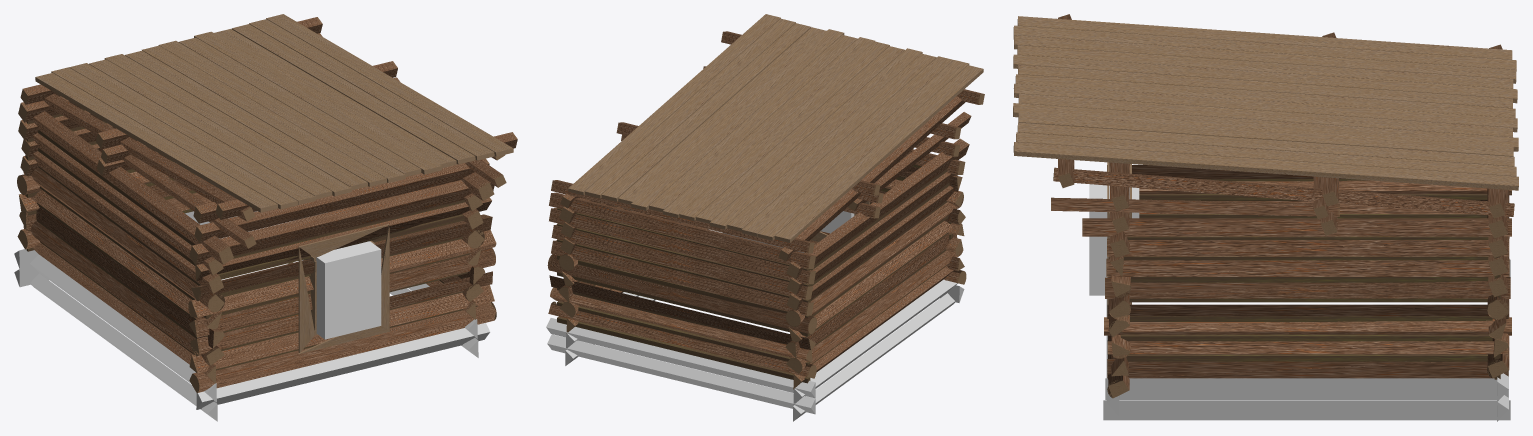
Rendered from kuznya_LOD3.fbx.
3 renders of one model, left to right at view 1: azimuth 30°, elevation 25°; view 2: azimuth 150°, elevation 25°; view 3: azimuth 270°, elevation 25°, orthographic. The views are drawn at different scales.
Visible parts, largest first — view 1: Куб, Цилиндр.012, Цилиндр.033, Цилиндр.017, Куб.032, Цилиндр.013, Цилиндр.075, Куб.043, Куб.045, Куб.044, Куб.041, Куб.033 (+44 smaller); view 2: Куб.032, Цилиндр.001, Цилиндр.027, Куб.043, Куб.045, Куб.044, Куб.041, Куб.033, Куб.038, Куб.036, Куб.034, Куб.035 (+37 smaller); view 3: Цилиндр.002, Цилиндр.005, Куб.045, Цилиндр.068, Цилиндр.020, Цилиндр.054, Цилиндр.053, Цилиндр.067, Цилиндр.019, Куб.036, Куб.039, Куб.034 (+35 smaller).
Part boxes in pixels (x1=…): Куб: x1=302, y1=241, x2=381, y2=339; Цилиндр.012: x1=189, y1=177, x2=494, y2=265; Цилиндр.033: x1=189, y1=302, x2=496, y2=392; Цилиндр.017: x1=196, y1=323, x2=489, y2=409; Куб.032: x1=35, y1=73, x2=278, y2=212; Цилиндр.013: x1=194, y1=158, x2=489, y2=243; Цилиндр.075: x1=33, y1=111, x2=233, y2=264; Куб.043: x1=231, y1=24, x2=475, y2=164; Куб.045: x1=266, y1=14, x2=513, y2=156; Куб.044: x1=249, y1=19, x2=494, y2=160; Куб.041: x1=194, y1=31, x2=441, y2=174; Куб.033: x1=51, y1=67, x2=297, y2=209; Куб.032: x1=774, y1=65, x2=983, y2=242; Цилиндр.001: x1=547, y1=334, x2=815, y2=414; Цилиндр.027: x1=549, y1=192, x2=815, y2=269; Куб.043: x1=601, y1=23, x2=811, y2=201; Куб.045: x1=568, y1=14, x2=780, y2=195; Куб.044: x1=585, y1=18, x2=795, y2=198; Куб.041: x1=631, y1=29, x2=844, y2=210; Куб.033: x1=757, y1=60, x2=969, y2=240; Куб.038: x1=679, y1=41, x2=889, y2=221; Куб.036: x1=710, y1=48, x2=922, y2=229; Куб.034: x1=741, y1=56, x2=953, y2=236; Куб.035: x1=727, y1=53, x2=936, y2=231; Цилиндр.002: x1=1103, y1=400, x2=1510, y2=420; Цилиндр.005: x1=1105, y1=378, x2=1508, y2=399; Куб.045: x1=1013, y1=142, x2=1518, y2=190; Цилиндр.068: x1=1082, y1=218, x2=1511, y2=236; Цилиндр.020: x1=1107, y1=359, x2=1508, y2=378; Цилиндр.054: x1=1106, y1=258, x2=1509, y2=276; Цилиндр.053: x1=1105, y1=277, x2=1510, y2=298; Цилиндр.067: x1=1107, y1=238, x2=1508, y2=256; Цилиндр.019: x1=1053, y1=167, x2=1514, y2=216; Куб.036: x1=1013, y1=54, x2=1517, y2=103; Куб.039: x1=1013, y1=83, x2=1517, y2=132; Куб.034: x1=1014, y1=35, x2=1516, y2=83.
Bounding box in the file's own units: 3480 × 2640 × 4545.
